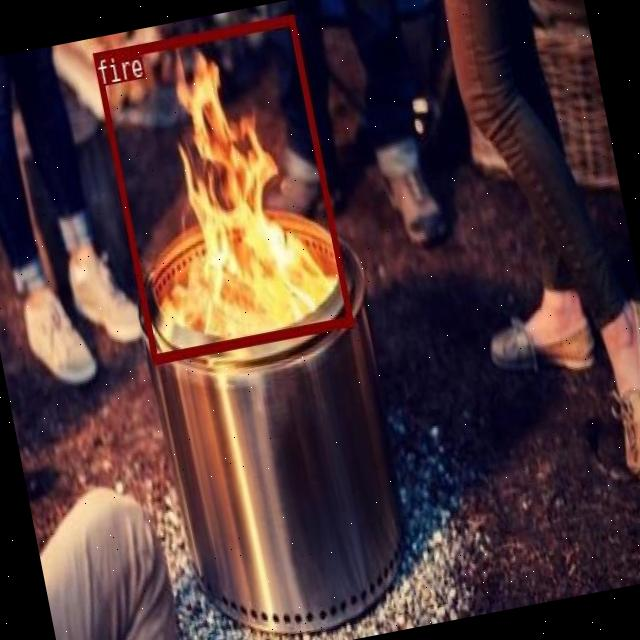fire: (91, 13, 352, 362)
